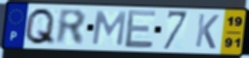7: (161, 9, 190, 51)
E: (124, 9, 158, 50)
K: (193, 13, 221, 51)
M: (90, 10, 129, 48)
Q: (23, 7, 57, 47)
R: (55, 8, 88, 47)
